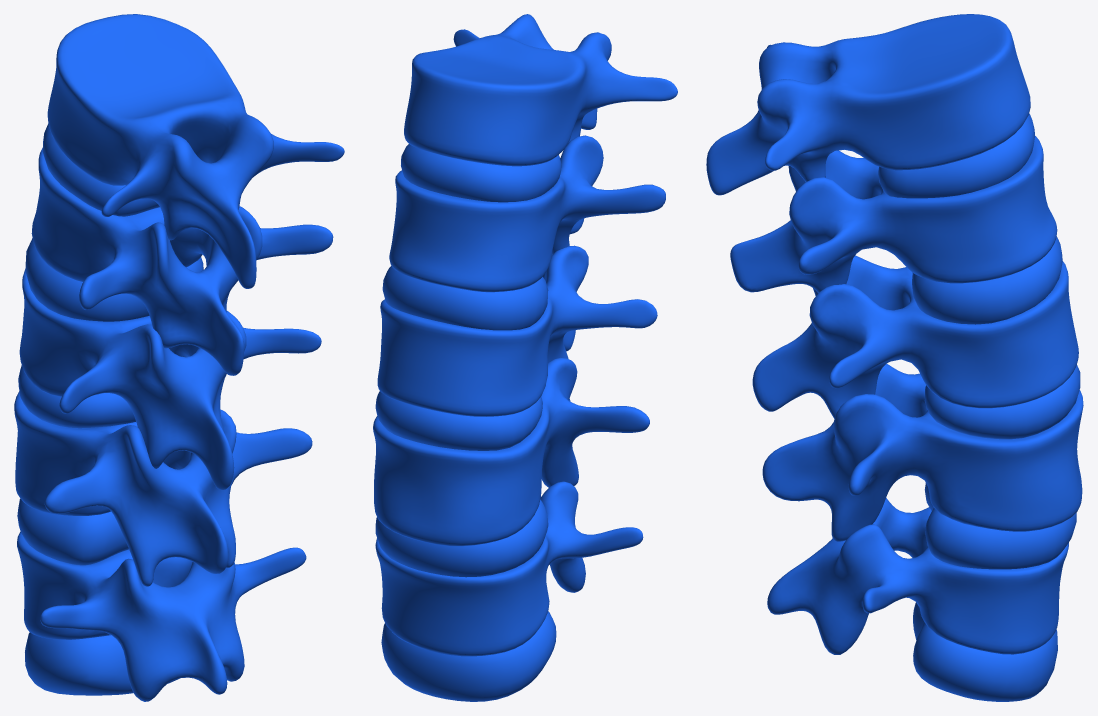
File: LumbarSpineParts.fbx
3 views of the same model, side by side, from view 1: azimuth 30°, elevation 25°; view 2: azimuth 150°, elevation 25°; view 3: azimuth 270°, elevation 25° (orthographic). The views are drawn at different scales.
Visible parts, largest first — view 1: LumbarSpine; view 2: LumbarSpine; view 3: LumbarSpine.
Boxes of the visible parts, box(x1,y1,x2,y2) form: LumbarSpine: box(14, 14, 344, 701); LumbarSpine: box(373, 14, 677, 701); LumbarSpine: box(706, 14, 1083, 701).
Size of the model in its own units: 350 by 825 by 436.
